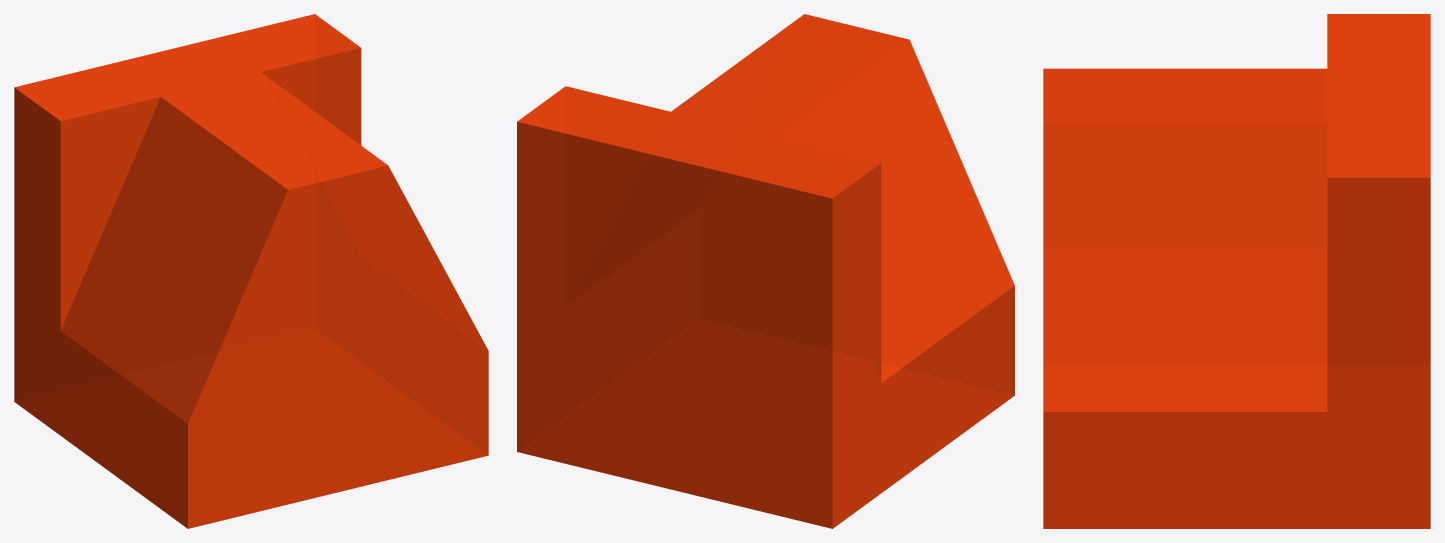
3 renders of one model, left to right at view 1: azimuth 30°, elevation 25°; view 2: azimuth 150°, elevation 25°; view 3: azimuth 270°, elevation 25°, orthographic. The views are drawn at different scales.
Visible parts, largest first — view 1: SketchUp; view 2: SketchUp; view 3: SketchUp.
Boxes of the visible parts, bbox=[...] form: SketchUp: bbox=[14, 14, 488, 528]; SketchUp: bbox=[517, 14, 1014, 528]; SketchUp: bbox=[1043, 14, 1430, 528].
Size of the model in its own units: 59.06 by 59.06 by 59.06.
